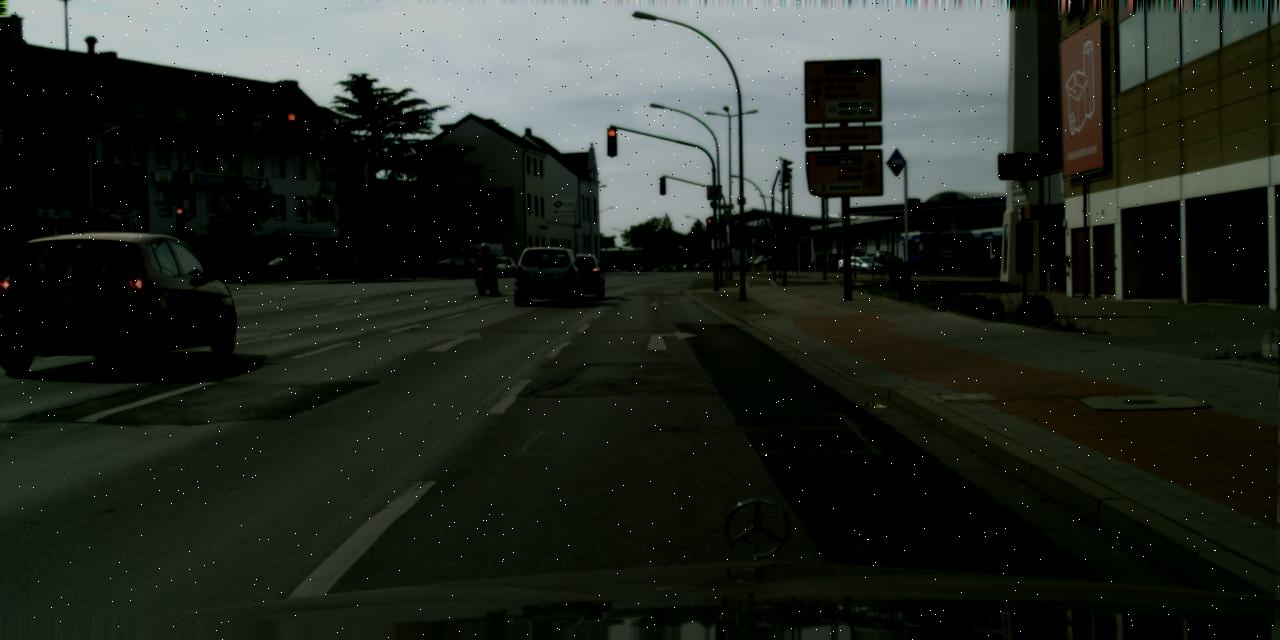ped: (478, 242, 497, 287), (878, 254, 885, 271), (870, 255, 876, 271)
